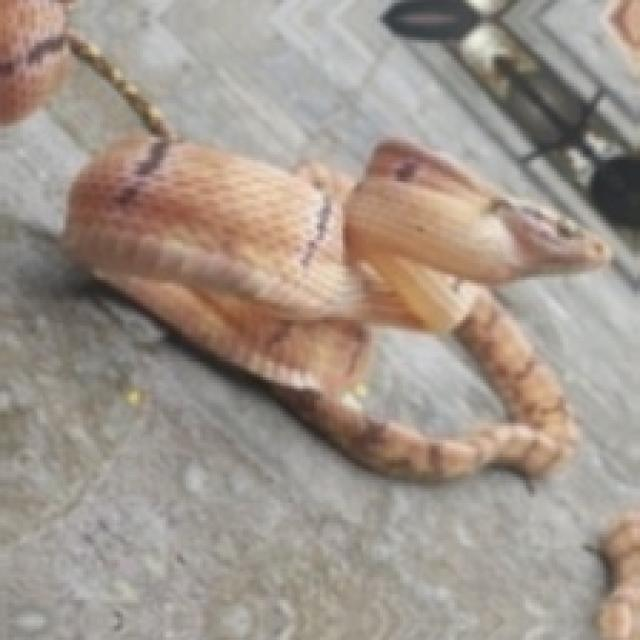dog-toothed cat snake: (66, 37, 606, 477)
